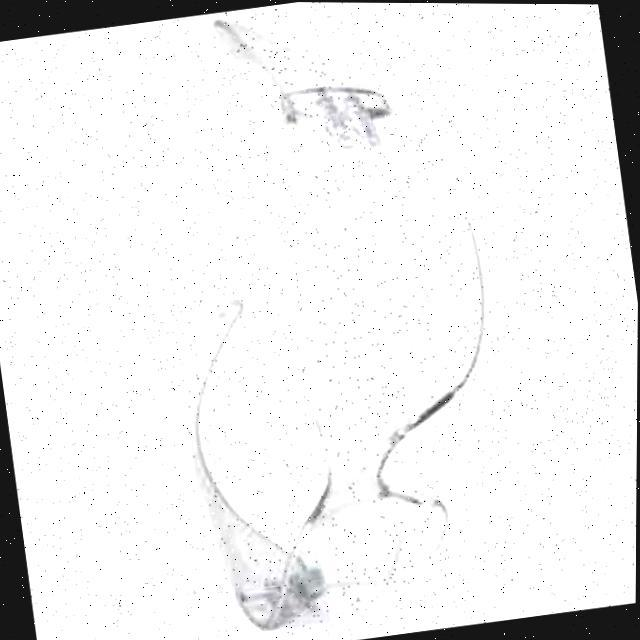goggles_on: (124, 1, 536, 640)
